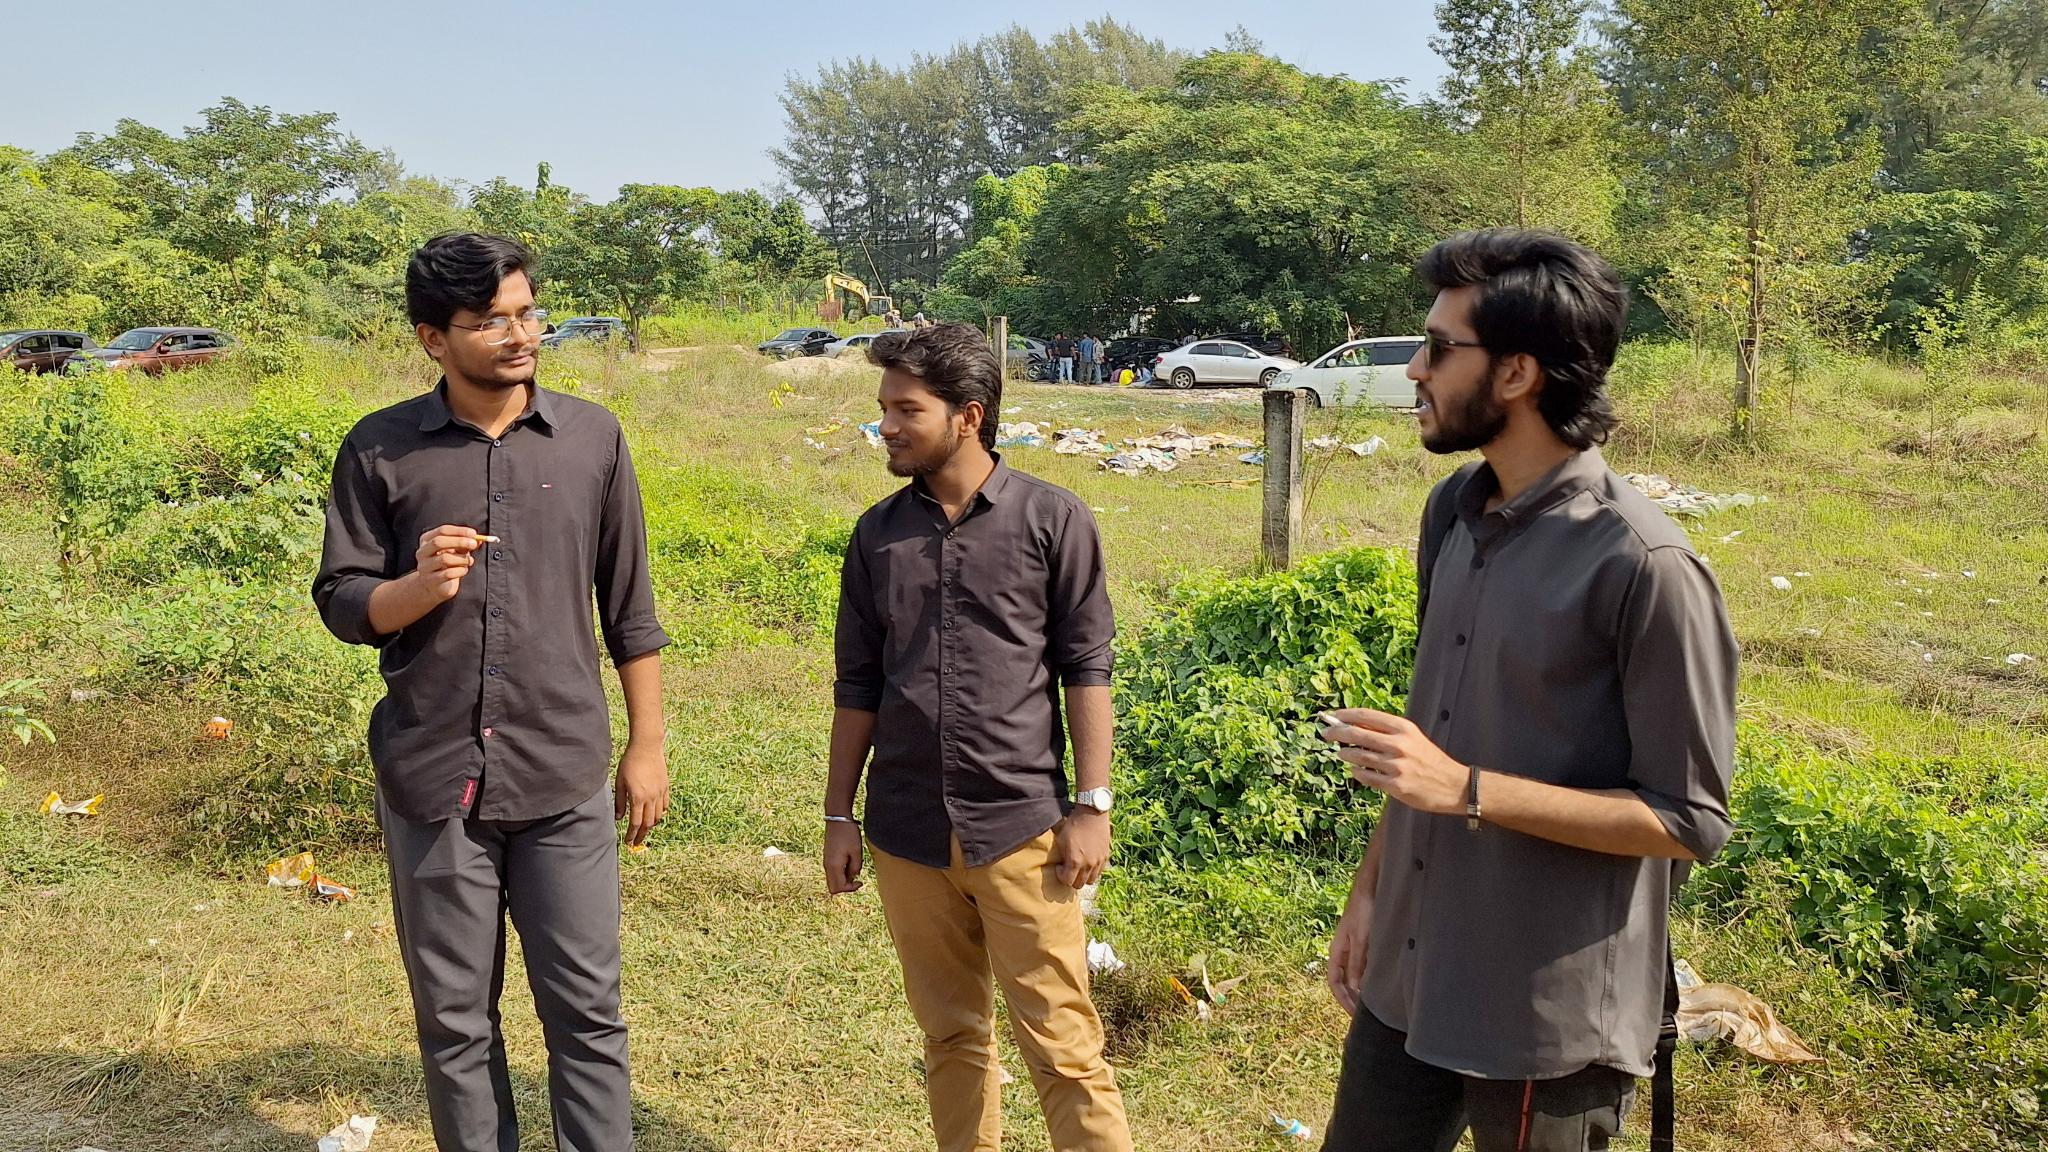cigarette: (1317, 709, 1355, 729), (470, 532, 502, 549)
nonSmoker: (823, 321, 1134, 1152)
smoker: (1318, 229, 1741, 1152), (312, 232, 672, 1152)
